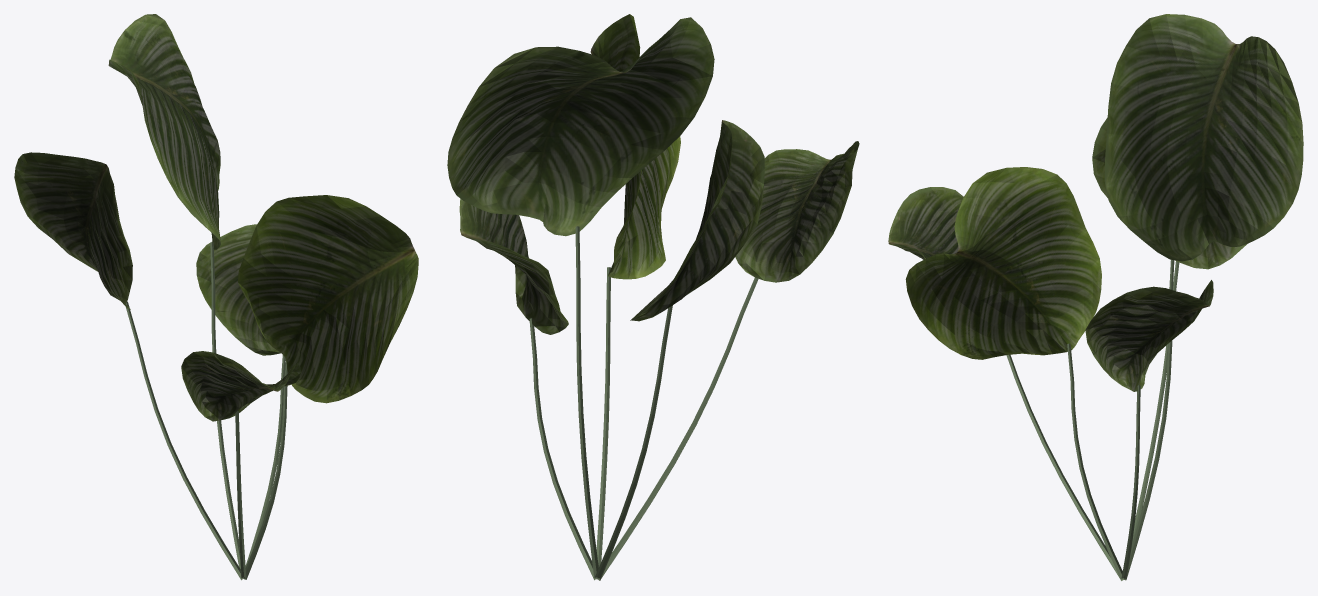
Rendered from leaf-2.glb.
3 views of the same model, side by side, from view 1: azimuth 30°, elevation 25°; view 2: azimuth 150°, elevation 25°; view 3: azimuth 270°, elevation 25° (orthographic). The views are drawn at different scales.
Size of the model in its own units: 0.4377 by 0.8163 by 0.5881.
Materials: 2 (1 with a texture image).
